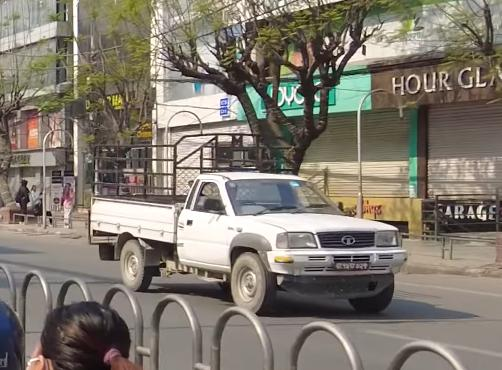transport_vehicle: (84, 122, 404, 318)
